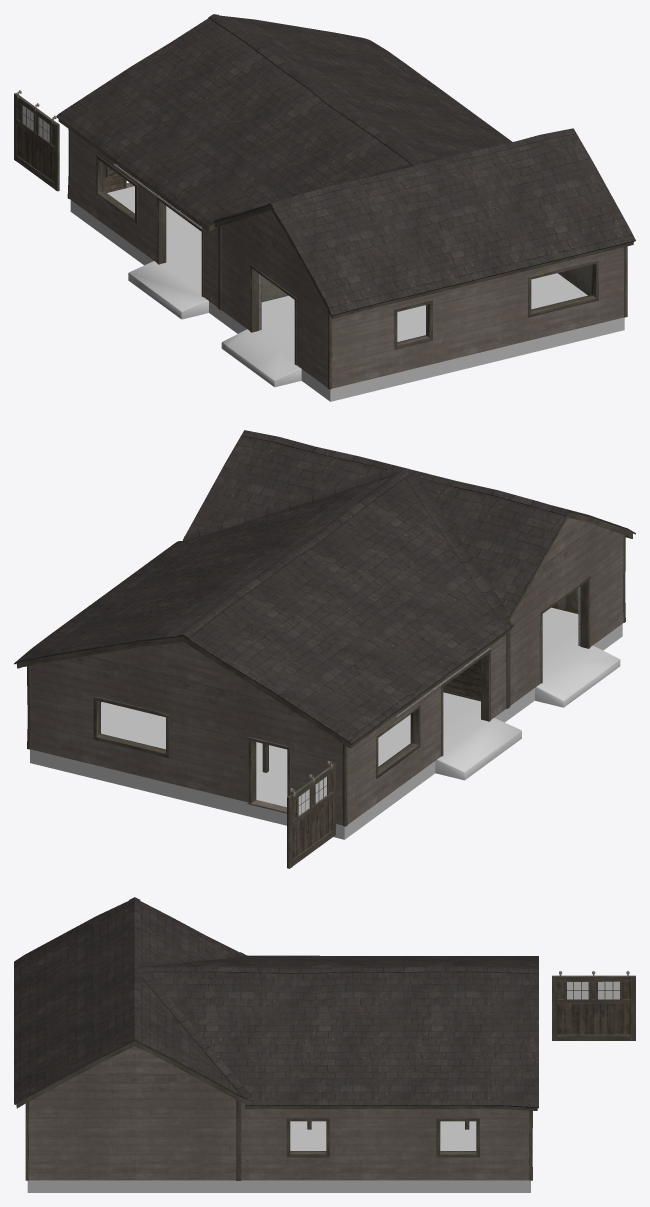
3 views of the same model, one above another, from view 1: azimuth 30°, elevation 25°; view 2: azimuth 150°, elevation 25°; view 3: azimuth 270°, elevation 25° (orthographic). The views are drawn at different scales.
Parts seen in each view (by area): view 1: Storage_Main_01, Storage_Main_DoorSliding_01; view 2: Storage_Main_01, Storage_Main_DoorSliding_01; view 3: Storage_Main_01, Storage_Main_DoorSliding_01.
Boxes of the visible parts, x1=… form: Storage_Main_01: x1=56, y1=14, x2=635, y2=401; Storage_Main_DoorSliding_01: x1=14, y1=90, x2=59, y2=191; Storage_Main_01: x1=14, y1=430, x2=635, y2=839; Storage_Main_DoorSliding_01: x1=287, y1=761, x2=335, y2=868; Storage_Main_01: x1=14, y1=897, x2=538, y2=1192; Storage_Main_DoorSliding_01: x1=552, y1=971, x2=635, y2=1040.
Bounding box in the file's own units: 32.7 × 15.23 × 54.68.
